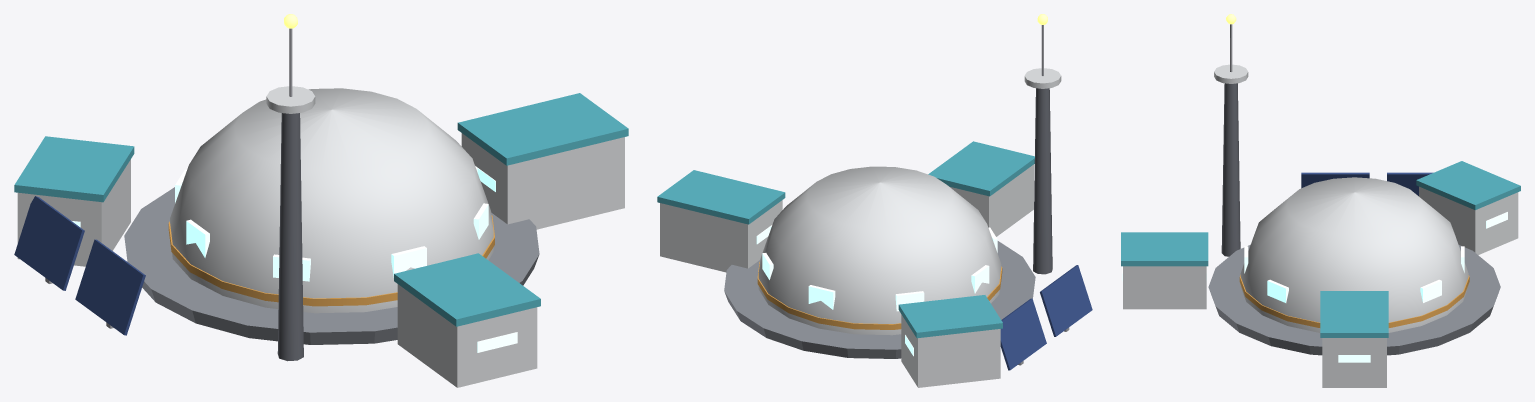
File: outpost.glb
The picture shows the model from 3 angles, left to right: view 1: azimuth 30°, elevation 25°; view 2: azimuth 150°, elevation 25°; view 3: azimuth 270°, elevation 25°; orthographic projection. The views are drawn at different scales.
Visible parts, largest first — view 1: outpost_m; view 2: outpost_m; view 3: outpost_m.
Boxes of the visible parts, bbox=[...] form: outpost_m: bbox=[14, 14, 628, 387]; outpost_m: bbox=[657, 14, 1092, 387]; outpost_m: bbox=[1121, 14, 1520, 387].
Size of the model in its own units: 22.07 by 13.88 by 21.06.
